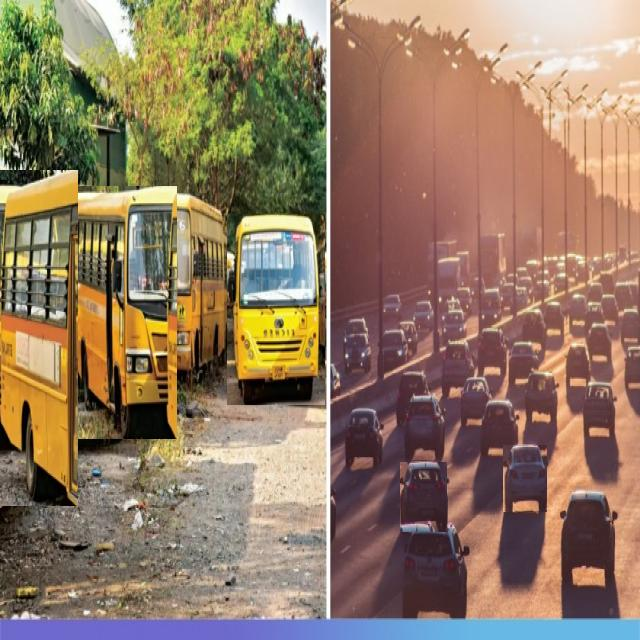bus: (69, 186, 177, 439), (0, 171, 78, 506), (228, 214, 325, 405), (152, 193, 226, 373)
car: (404, 524, 469, 619), (401, 462, 447, 532), (504, 445, 547, 512), (404, 395, 445, 462)
